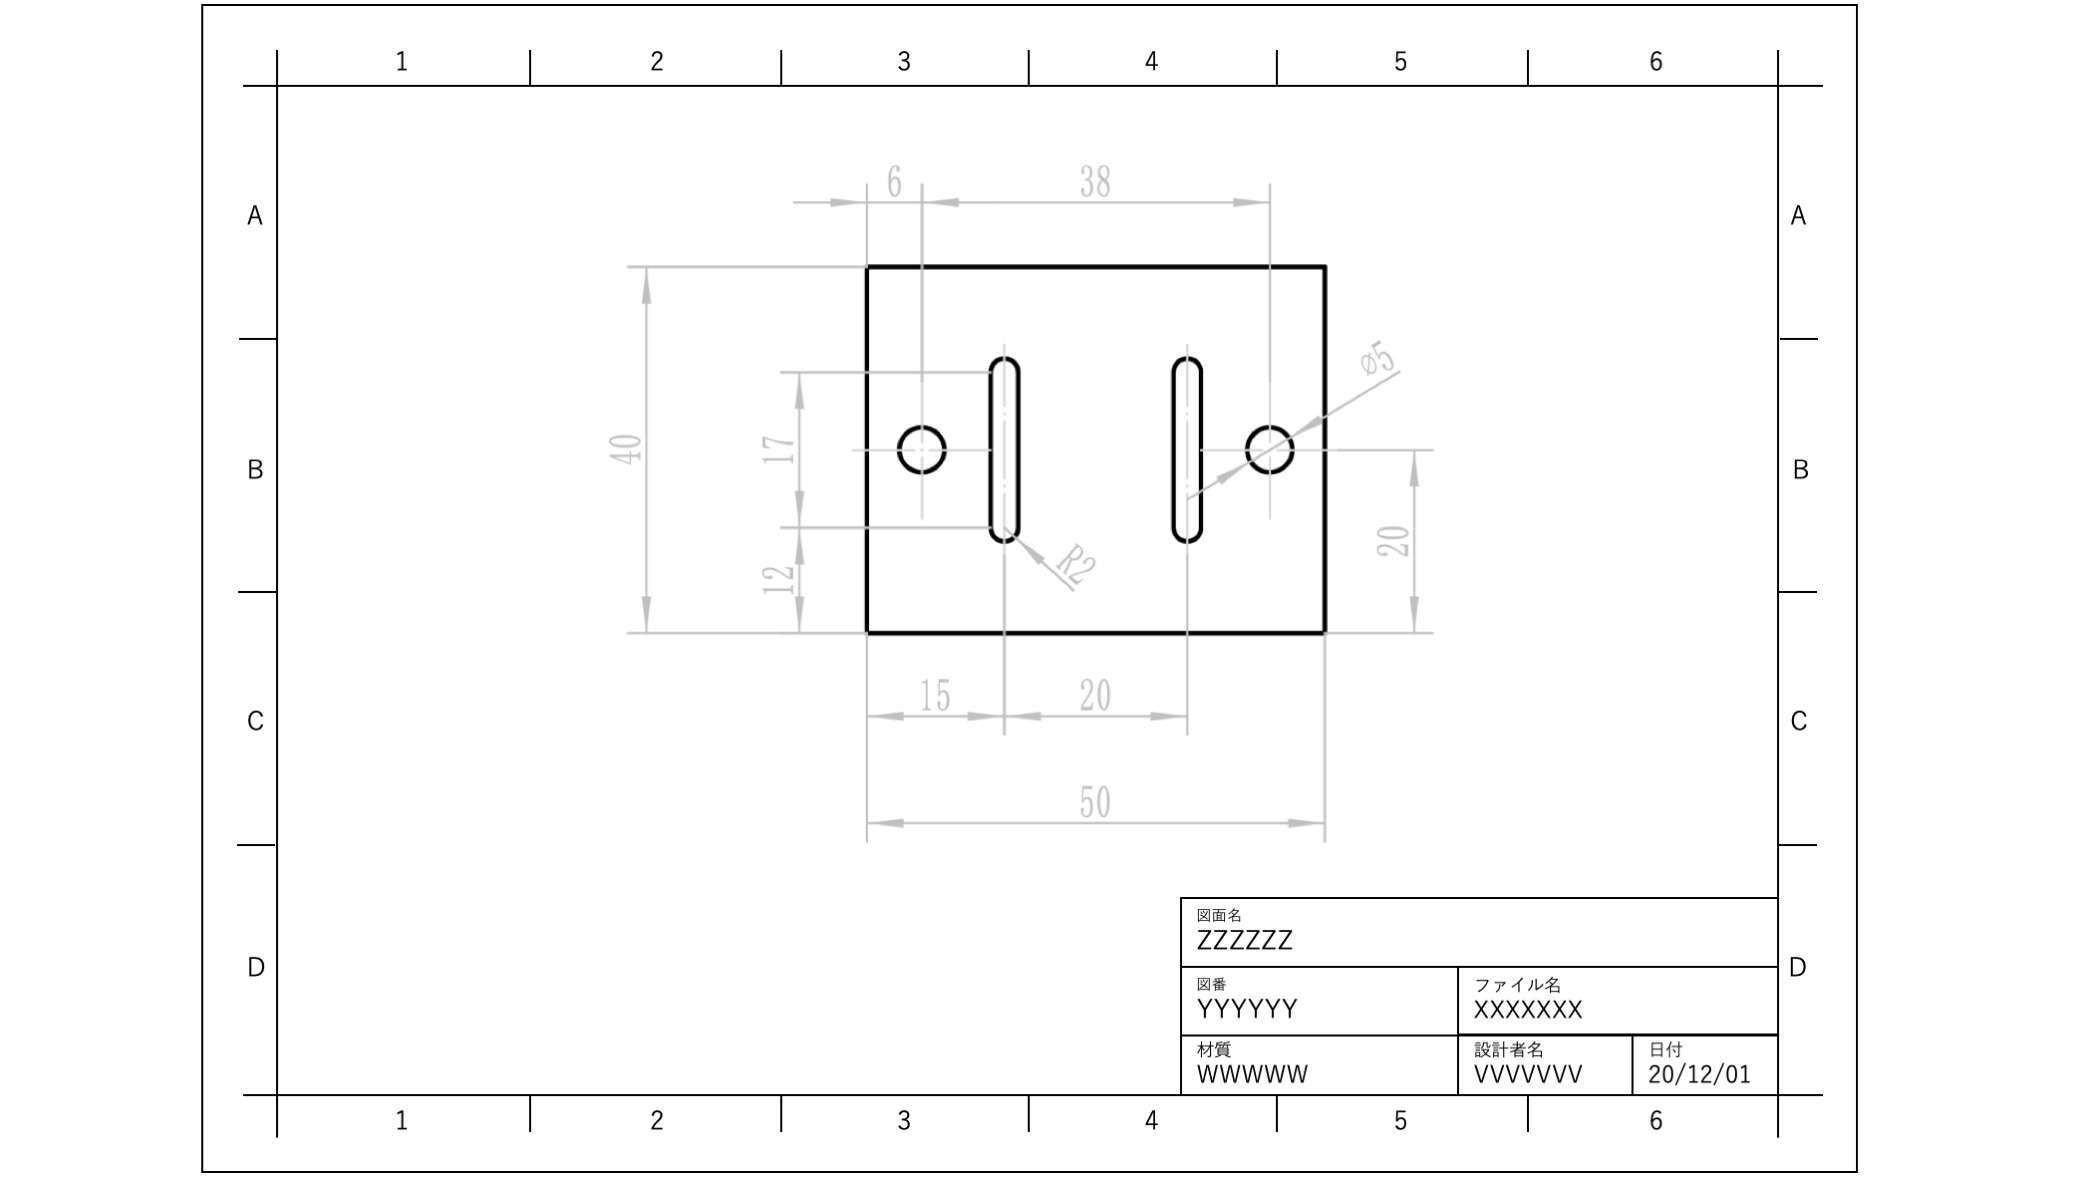circle: (1240, 410, 1300, 479), (891, 415, 952, 482)
round_rectangle: (979, 340, 1030, 549), (1162, 337, 1209, 549)
